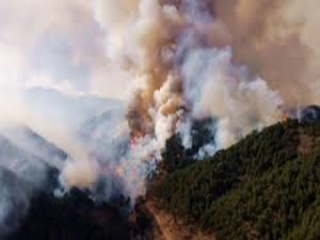smoke: (102, 10, 183, 155), (185, 49, 289, 152), (58, 125, 165, 208)
